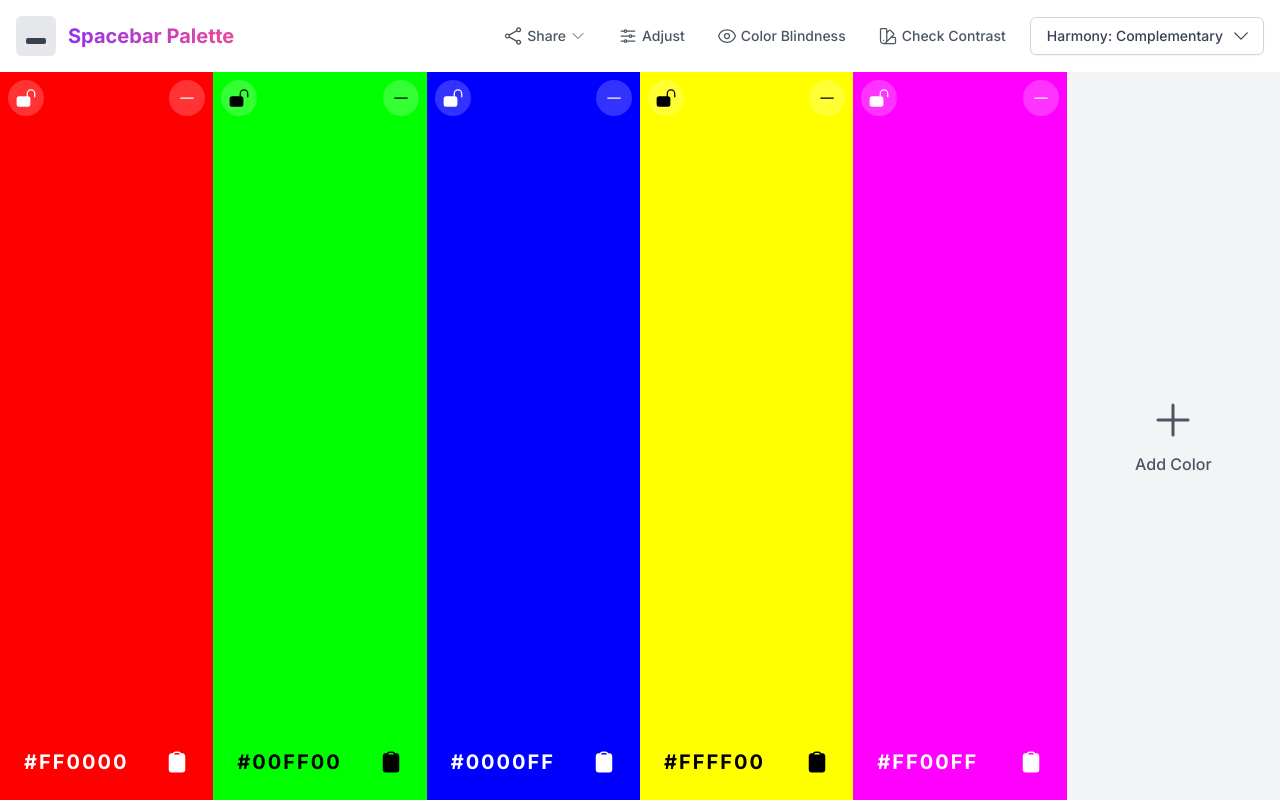
Test: Home › adds a new color column when "Add Color" is clicked
This screenshot has width=1280, height=800.
Expected: the number of elements with test id "color-element" is 5, [0,72,213,799]; [213,72,427,799]; [427,72,640,799]; [640,72,853,799]; [853,72,1067,799]
What coordinates should you click on to do the following:
click the element with test id "add-color-button"
I would click on:
 (1173, 436)
Its box is [1067,72,1279,799].
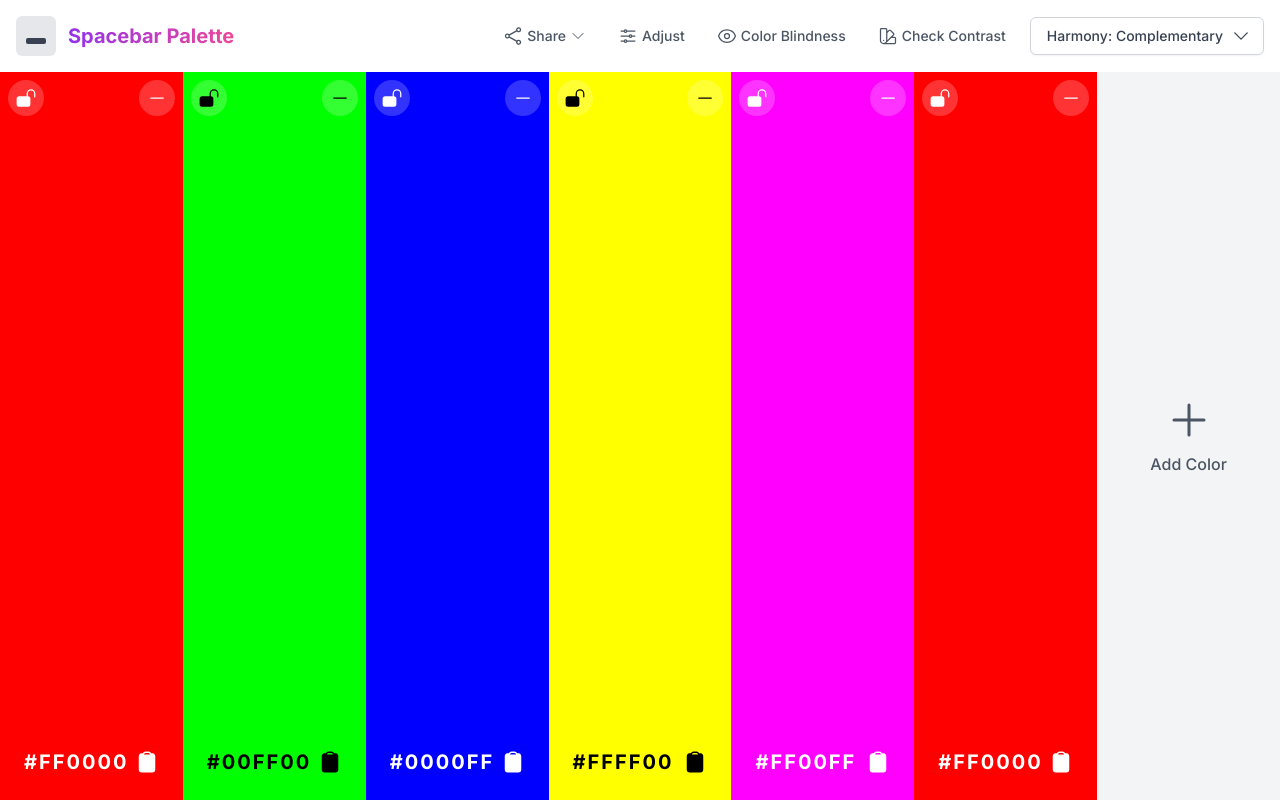
Now the number of elements with test id "color-element" is 6, box [0,72,183,799]; [183,72,366,799]; [366,72,549,799]; [549,72,732,799]; [731,72,914,799]; [914,72,1097,799]
